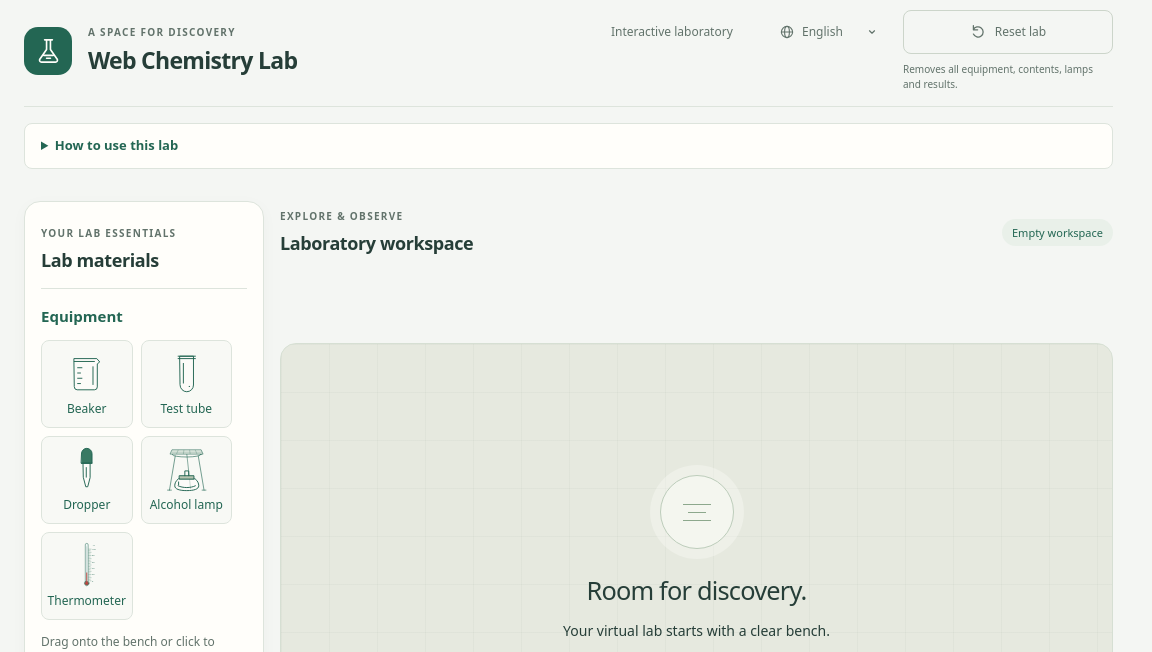
Scenario: Experiment Sample/Result tabs › opens Result again for a new successful evaluation with the same reaction ID
Click the button with aria-label "Add Beaker" at (87, 384), box x1=41 y1=340 x2=132 y2=428
(page scrolled)
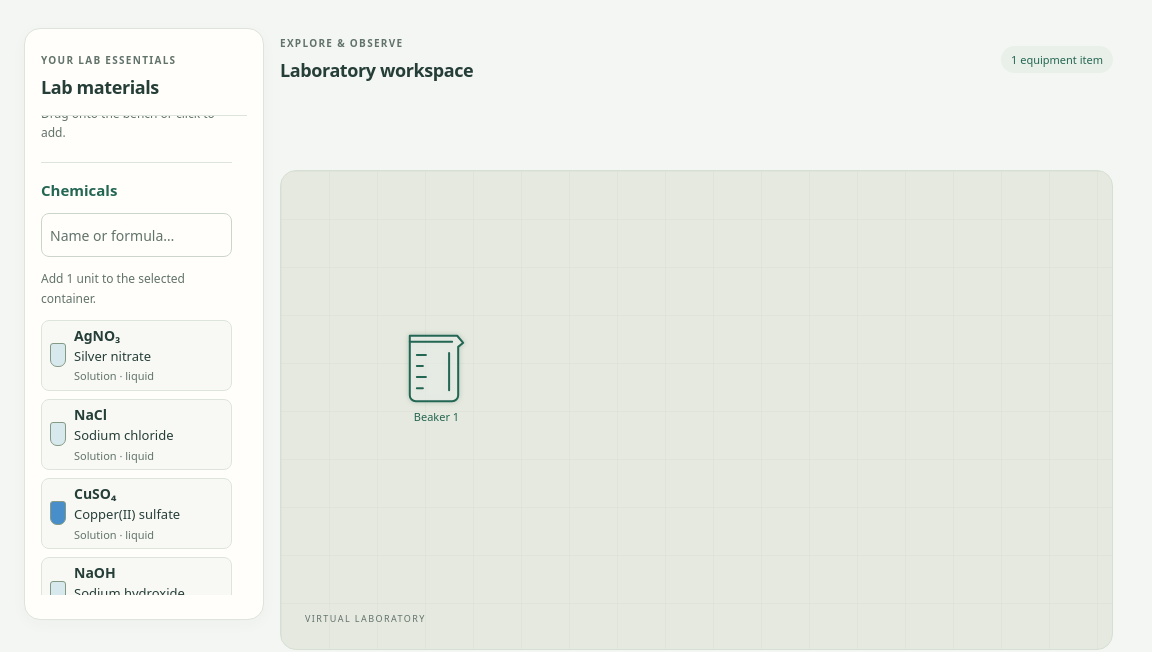
Click the button "AgNO₃ Silver nitrate Solution · liquid" at (136, 355), box x1=41 y1=320 x2=232 y2=391
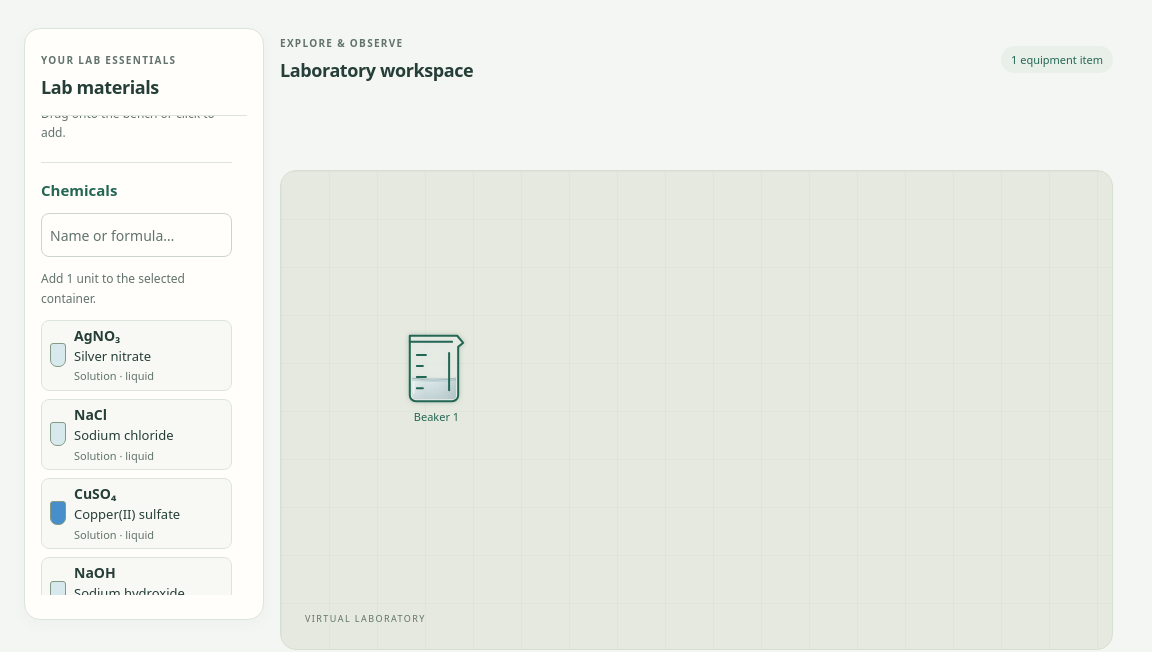
Click the button with aria-label "Add Sodium chloride" at (136, 434), box x1=41 y1=399 x2=232 y2=470
(page scrolled)
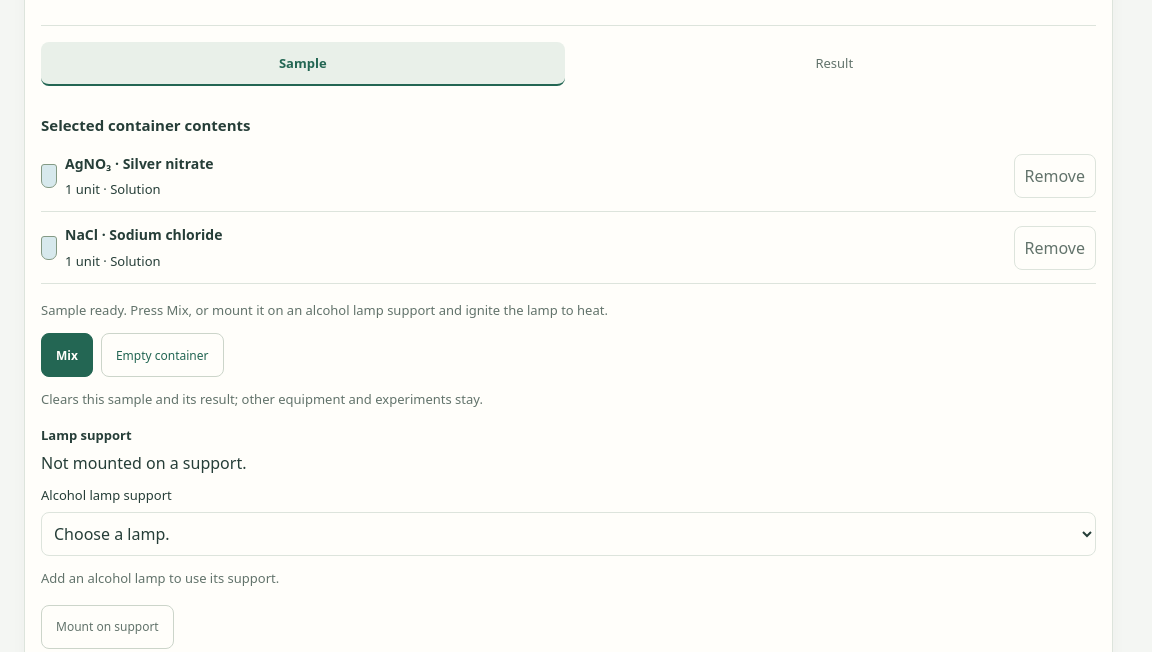
Click the button "Mix" at (67, 355), box x1=41 y1=333 x2=93 y2=377
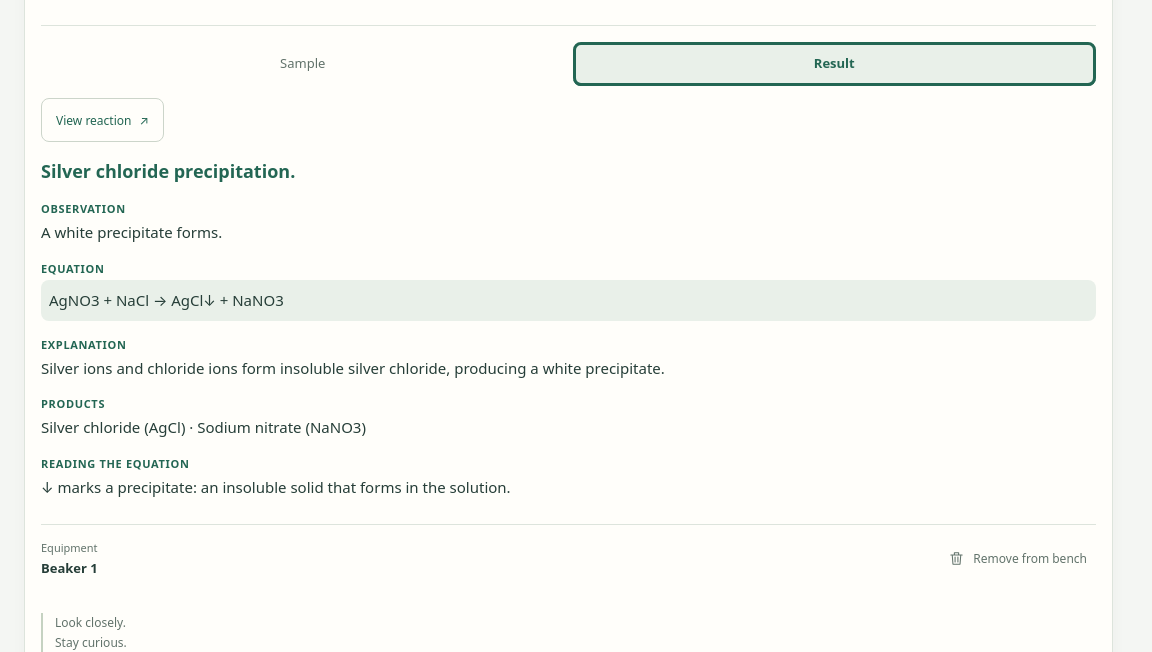
Click the tab "Sample" at (303, 64), box x1=41 y1=42 x2=564 y2=86
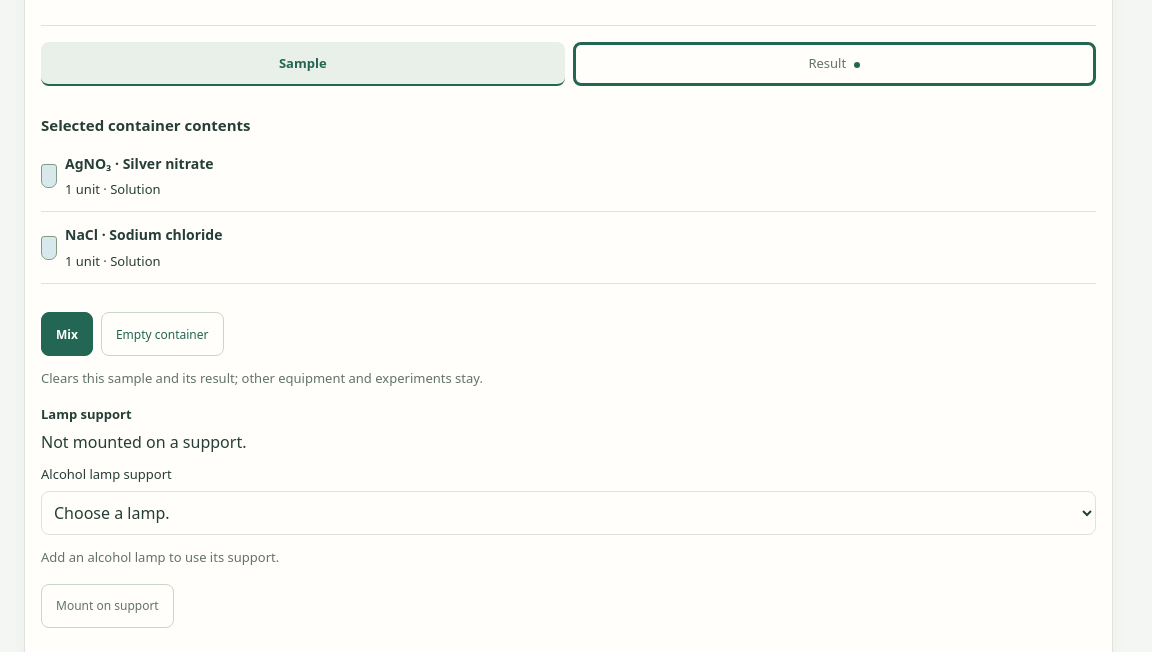
Click the button "Mix" at (67, 334), box x1=41 y1=312 x2=93 y2=356
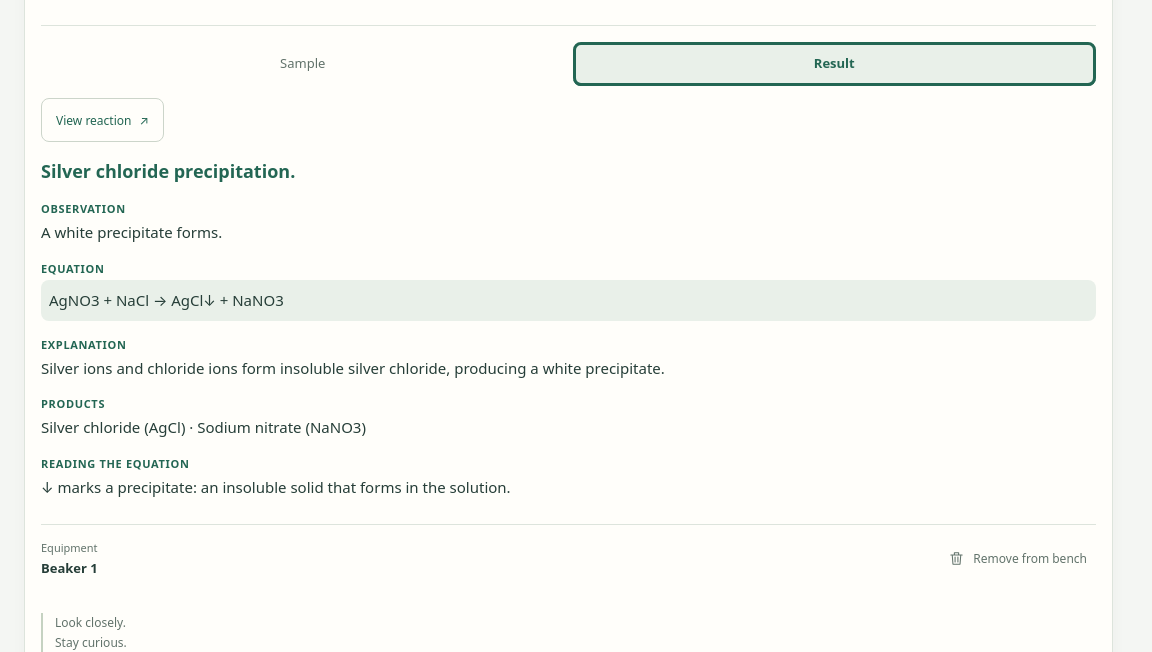
Now the panel named "Result" shows "Silver chloride precipitation", box x1=41 y1=159 x2=290 y2=183
